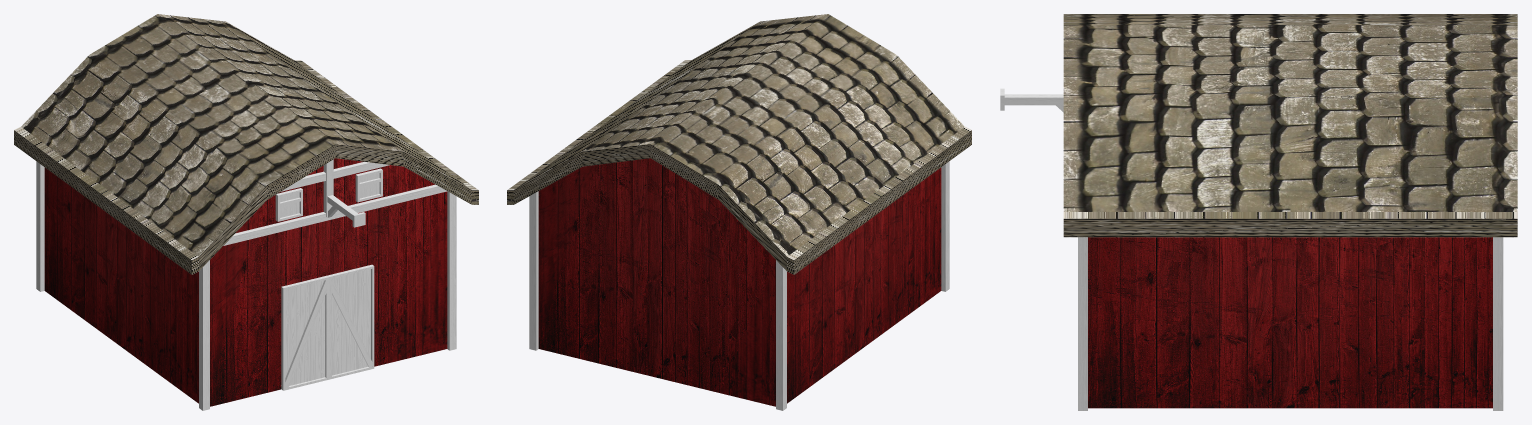
Rendered from Barn#1.FBX.
3 views of the same model, side by side, from view 1: azimuth 30°, elevation 25°; view 2: azimuth 150°, elevation 25°; view 3: azimuth 270°, elevation 25° (orthographic). The views are drawn at different scales.
Parts seen in each view (by area): view 1: Box002, Box001, Box016, Box007, Box003, Box004, Box005, Box008, Box018, Box014, Box012, Box017 (+3 smaller); view 2: Box001, Box002, Box005, Box006, Box003; view 3: Box002, Box001, Box006, Box004, Box010.
Part boxes in pixels (x1,y1,x2,y2): Box002: (14,14,478,274); Box001: (44,158,447,406); Box016: (281,264,374,390); Box007: (223,184,446,245); Box003: (199,260,209,410); Box004: (447,191,456,350); Box005: (36,161,44,291); Box008: (281,162,389,191); Box018: (281,279,329,387); Box014: (355,168,382,202); Box012: (275,188,302,221); Box017: (325,279,331,378); Box001: (538,158,941,406); Box002: (507,14,971,274); Box005: (776,260,786,410); Box006: (529,191,538,350); Box003: (941,161,949,291); Box002: (1063,14,1517,237); Box001: (1088,237,1492,408); Box006: (1493,237,1503,410); Box004: (1078,237,1087,410); Box010: (1000,88,1063,110).
Size of the model in its own units: 205 by 164 by 251.
3 materials, 3 textured.
